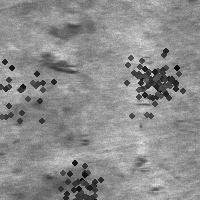rolled-in_scale: (0, 33, 65, 141), (118, 46, 186, 114), (30, 18, 98, 77), (43, 148, 117, 200)
